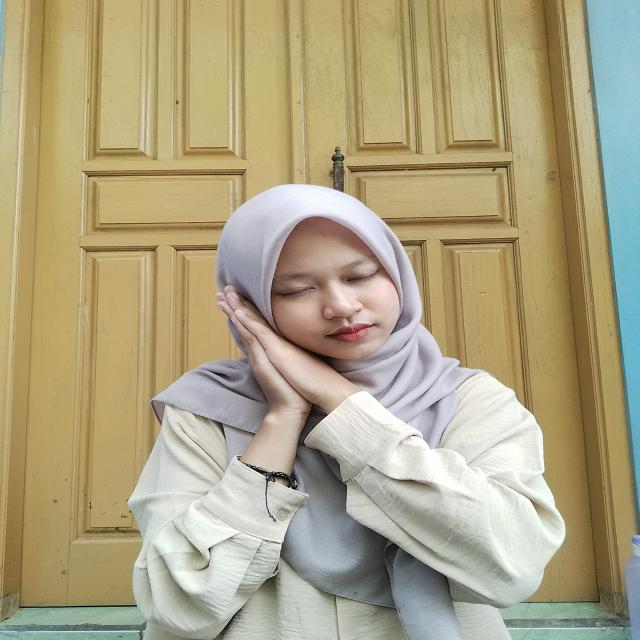tidur: (198, 281, 388, 491)
